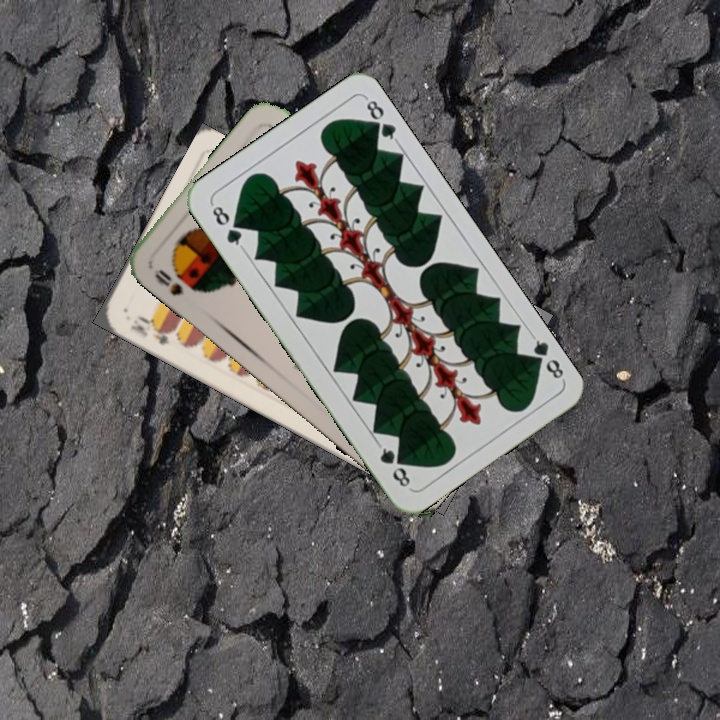E10: (126, 311, 180, 348)
G8: (524, 331, 567, 383), (207, 200, 247, 252)
SO: (150, 264, 187, 299)
